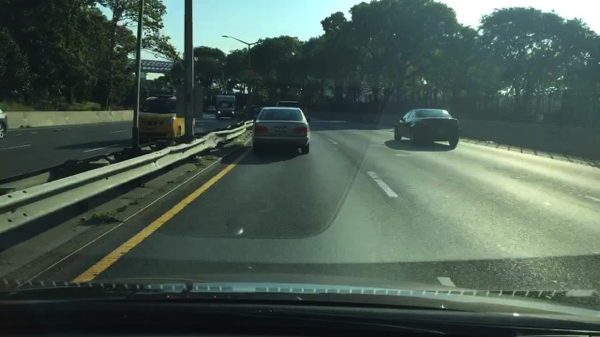car: (250, 109, 312, 154), (137, 94, 196, 141), (393, 109, 459, 148), (176, 86, 202, 119), (275, 100, 305, 117), (1, 110, 8, 140), (244, 105, 261, 114), (207, 106, 216, 113)
traffic sign: (246, 67, 253, 76)
truck: (214, 95, 237, 118)
